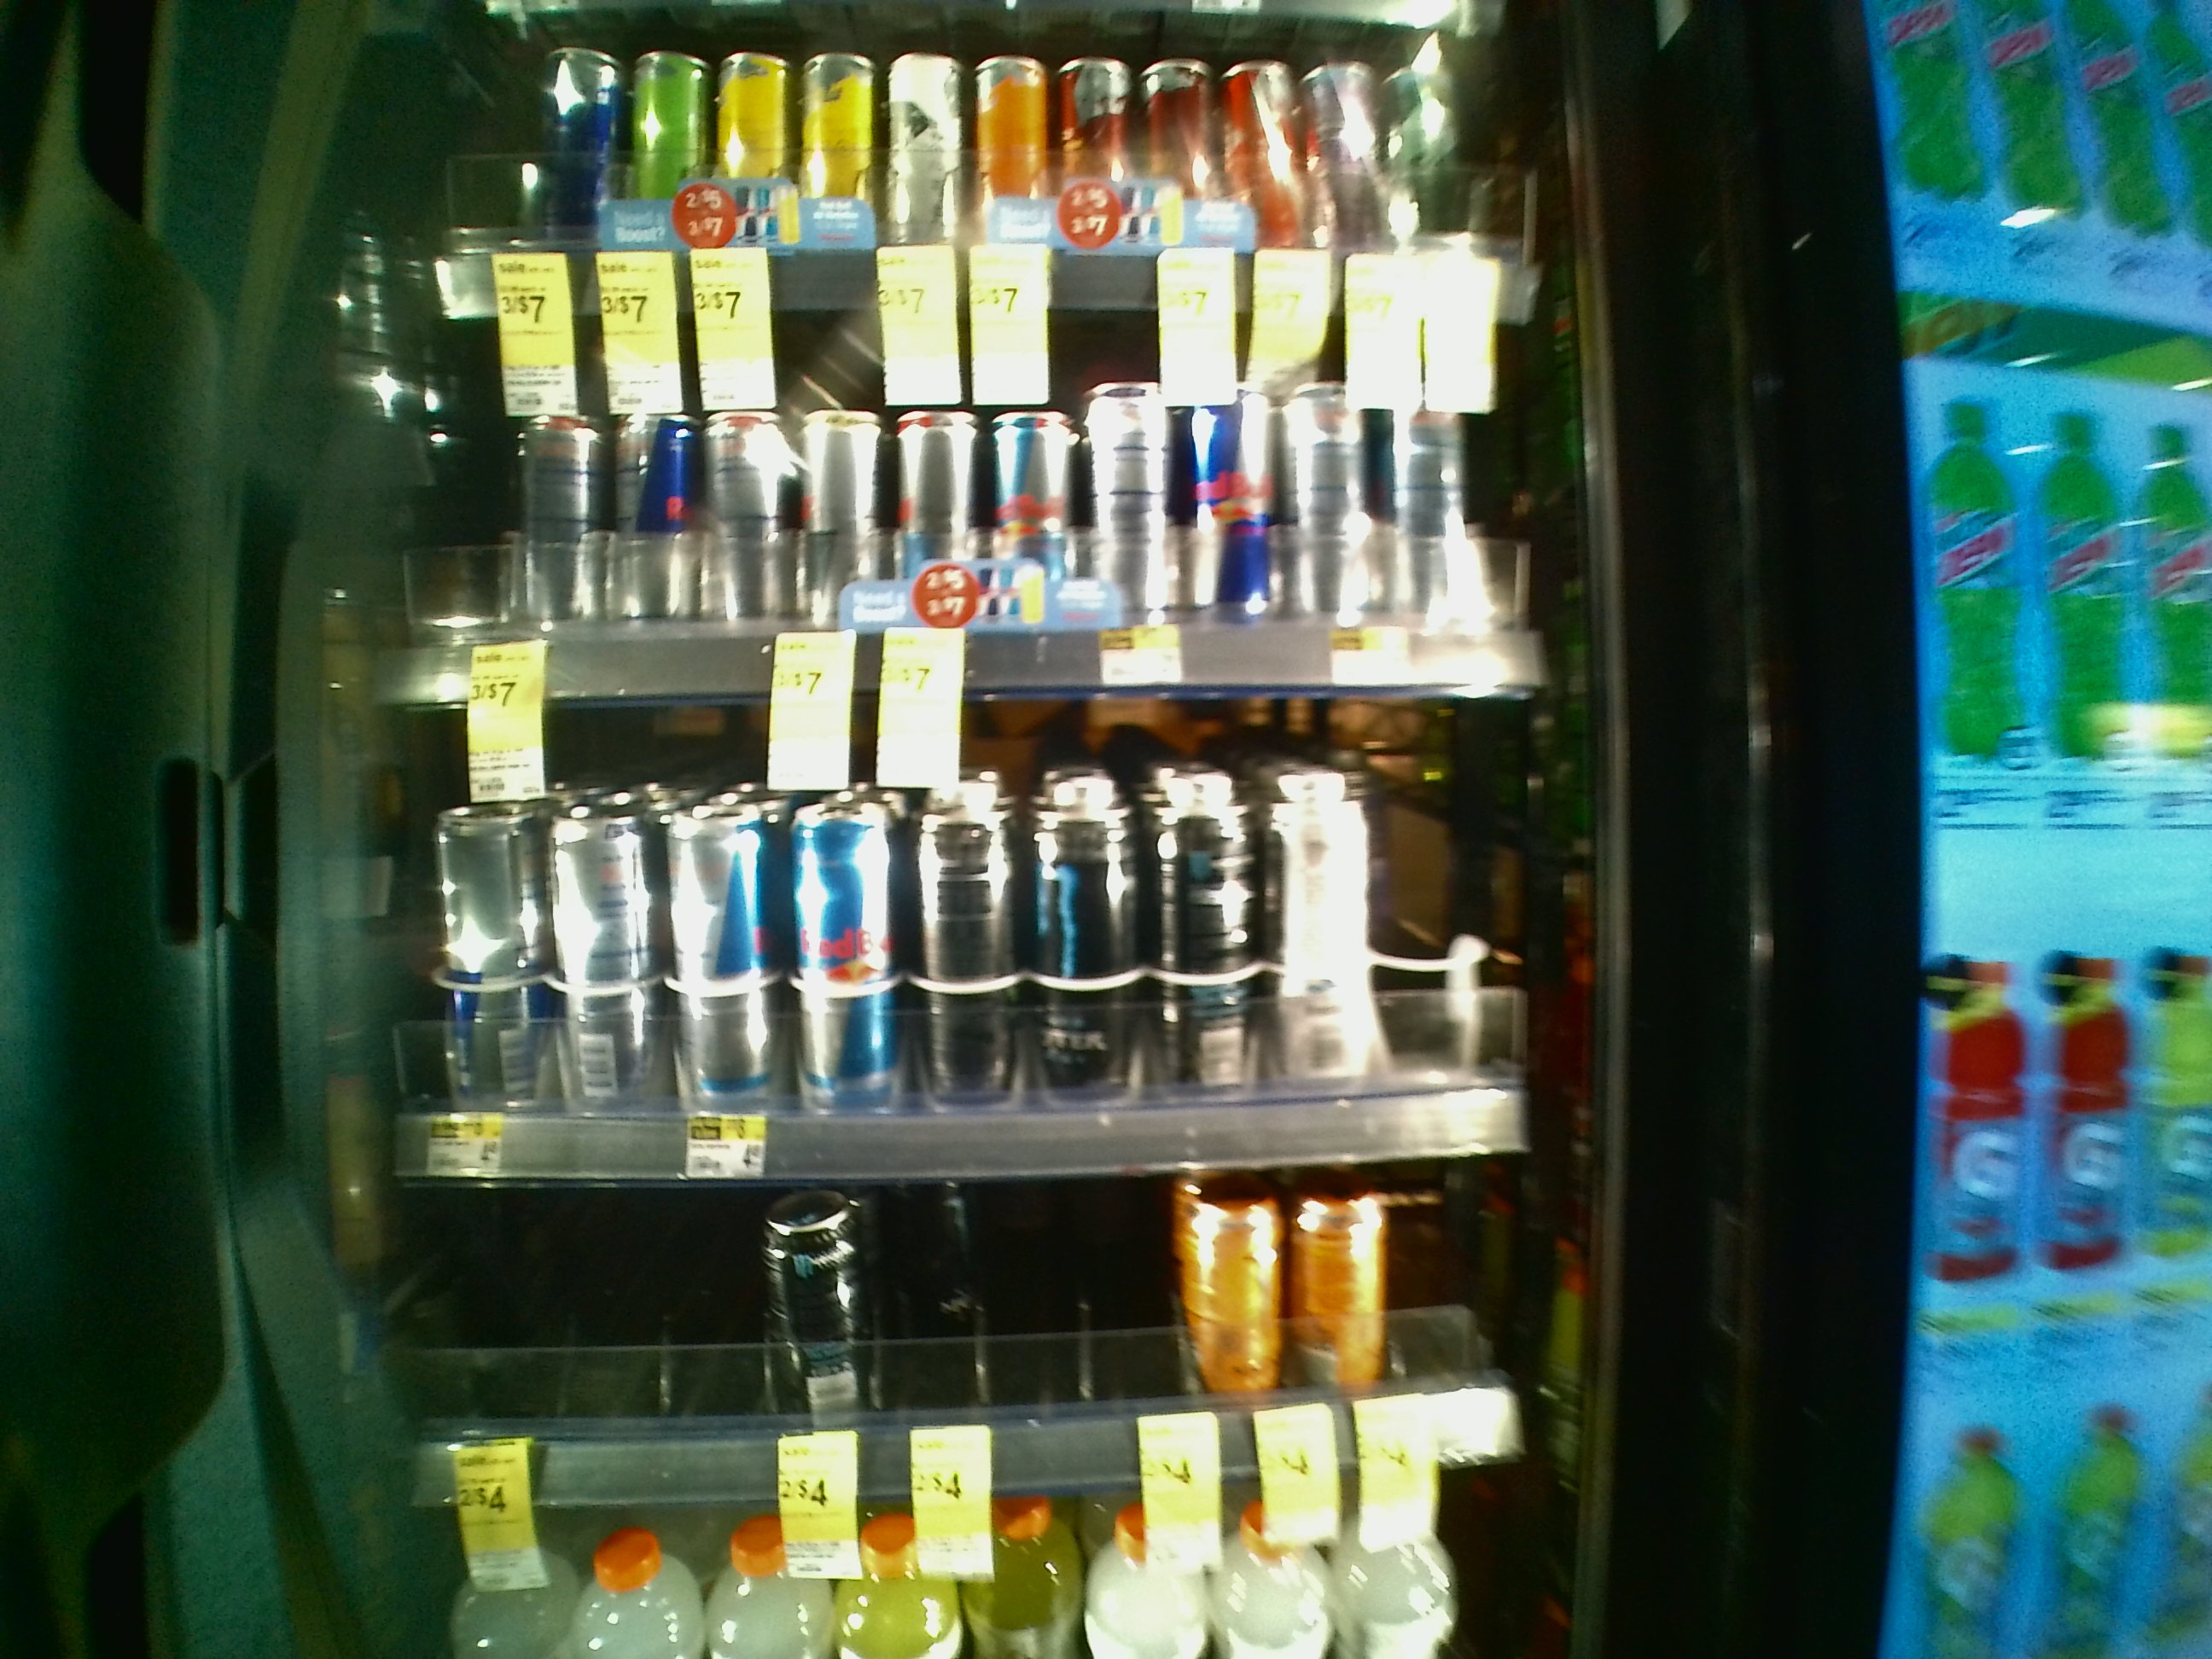shelf: (331, 660, 1635, 1152), (343, 249, 1635, 666)
